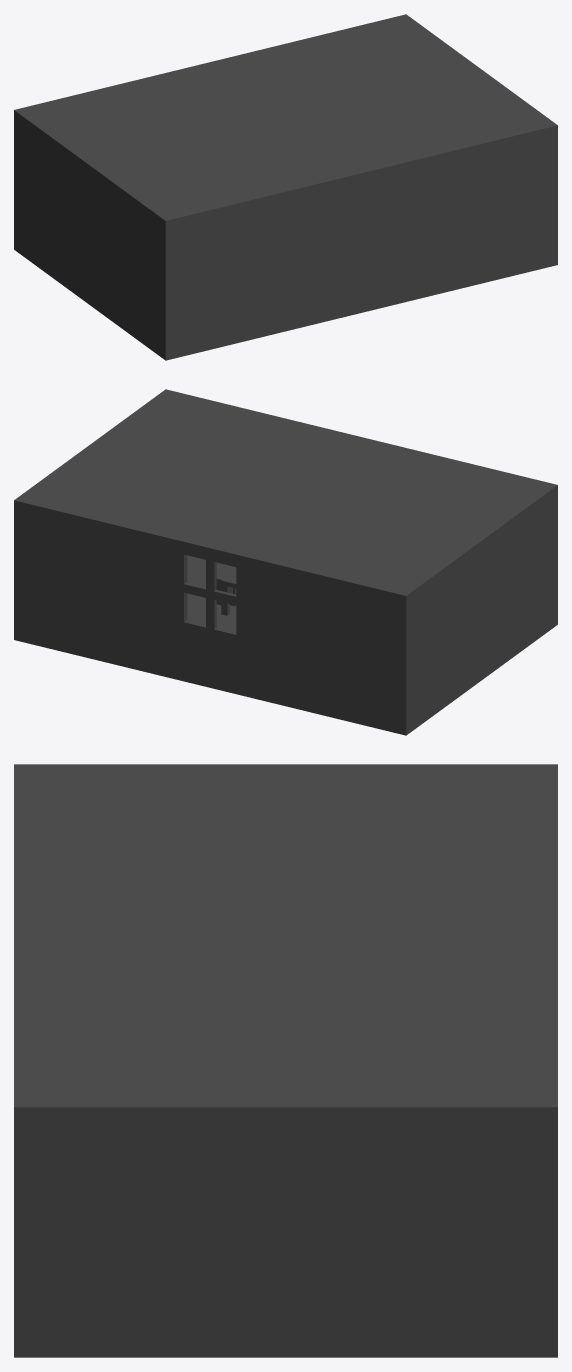
Rendered from room.obj.
The picture shows the model from 3 angles, top to bottom: view 1: azimuth 30°, elevation 25°; view 2: azimuth 150°, elevation 25°; view 3: azimuth 270°, elevation 25°; orthographic projection. The views are drawn at different scales.
Bounding box in the file's own units: 19.4 × 6.6 × 13.
Materials: 1 (1 with a texture image).
